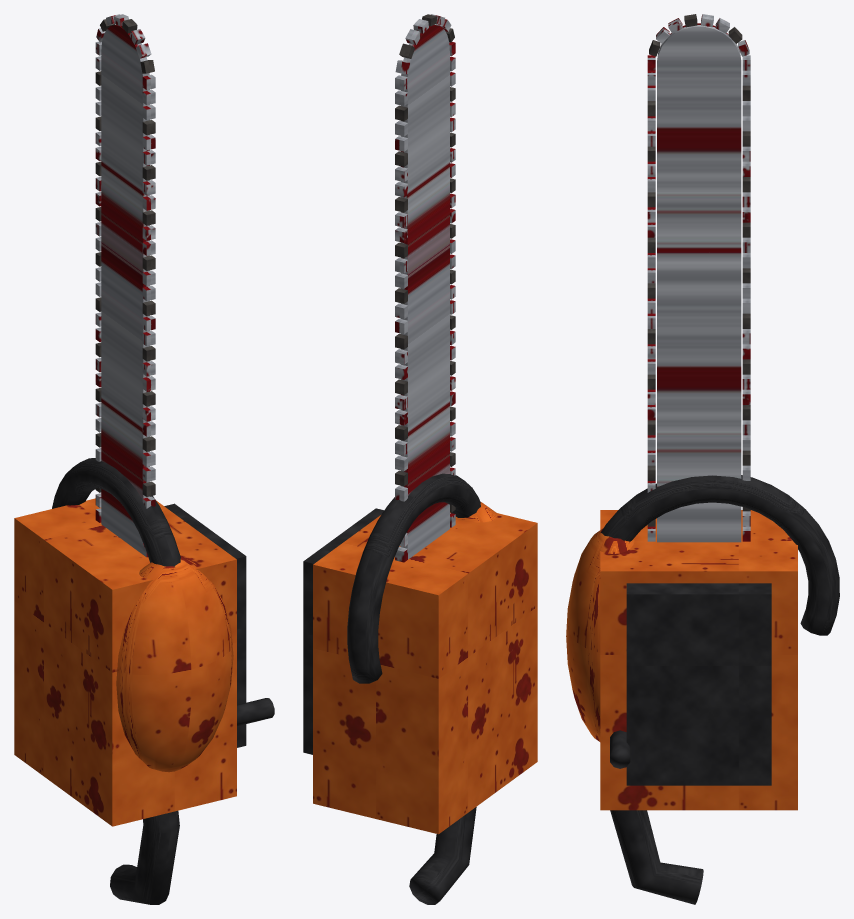
The model's file is チェンソー_chainsaw.glb.
3 renders of one model, left to right at view 1: azimuth 30°, elevation 25°; view 2: azimuth 150°, elevation 25°; view 3: azimuth 270°, elevation 25°, orthographic.
Visible parts, largest first — view 1: chainsaw; view 2: chainsaw; view 3: chainsaw.
Boxes of the visible parts, x1,y1,x2,y2 form: chainsaw: (14, 14, 274, 904); chainsaw: (303, 14, 537, 904); chainsaw: (566, 14, 839, 904).
Size of the model in its own units: 0.1475 by 0.7428 by 0.2078.
4 materials, 4 textured.
